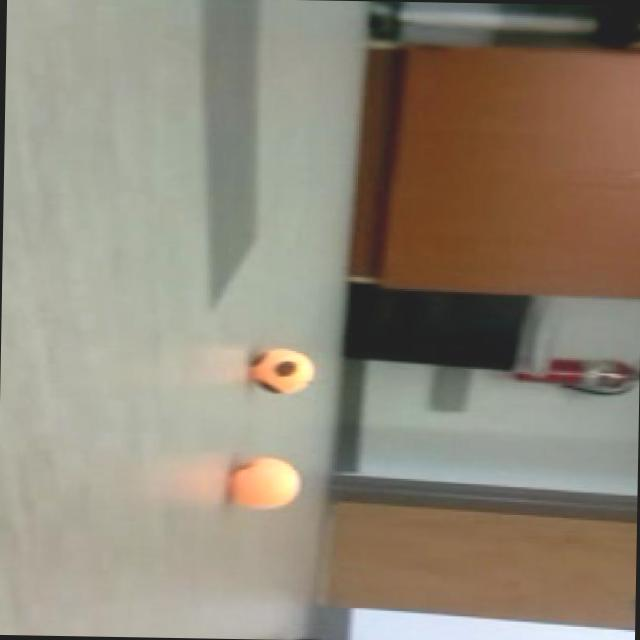ping-pong-ball: (218, 454, 304, 516), (246, 346, 316, 395)
